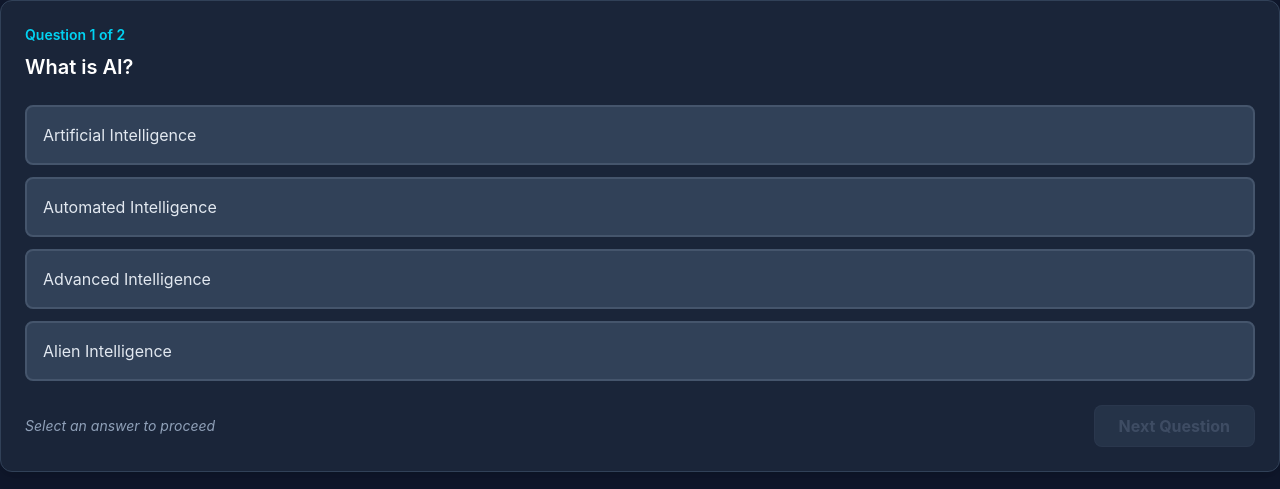
Test: QuizView Component › shows results after completing all questions
The width and height of the screenshot is (1280, 489).
// Answer first question correctly
Step 1. Click the button "Artificial Intelligence" → (120, 135), box top-left (25, 105), bottom-right (1255, 165)
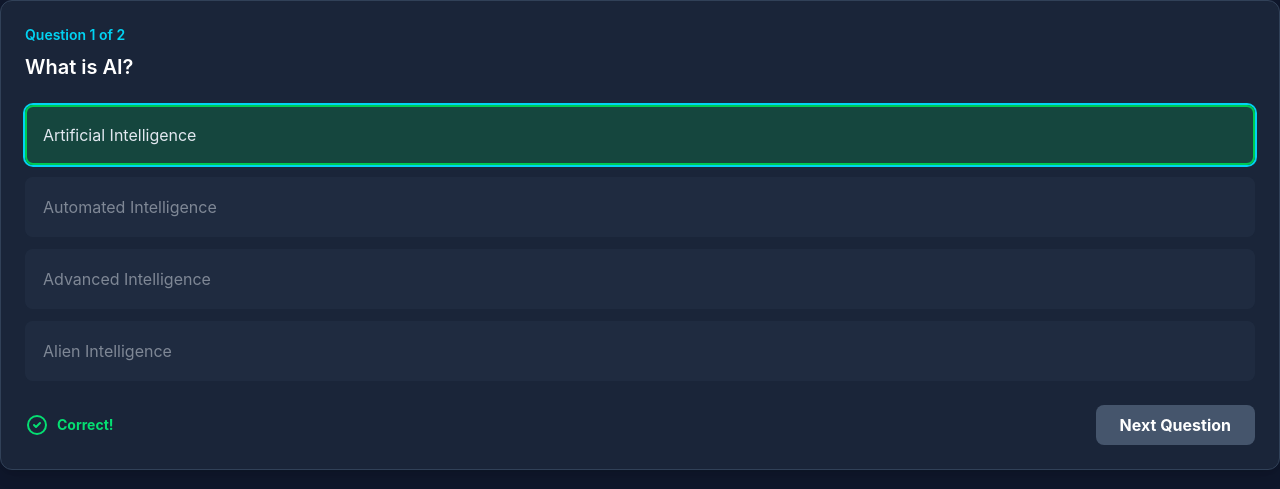
Step 2. Click the button "Next Question" → (1175, 425), box top-left (1096, 405), bottom-right (1255, 445)
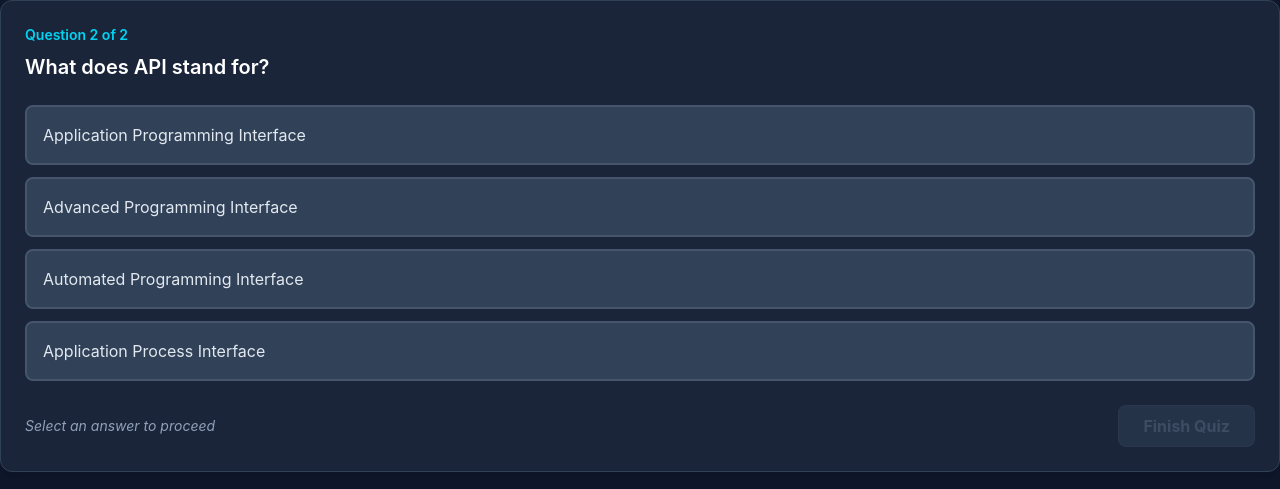
// Answer second question correctly
Step 3. Click the button "Application Programming Interface" → (174, 135), box top-left (25, 105), bottom-right (1255, 165)
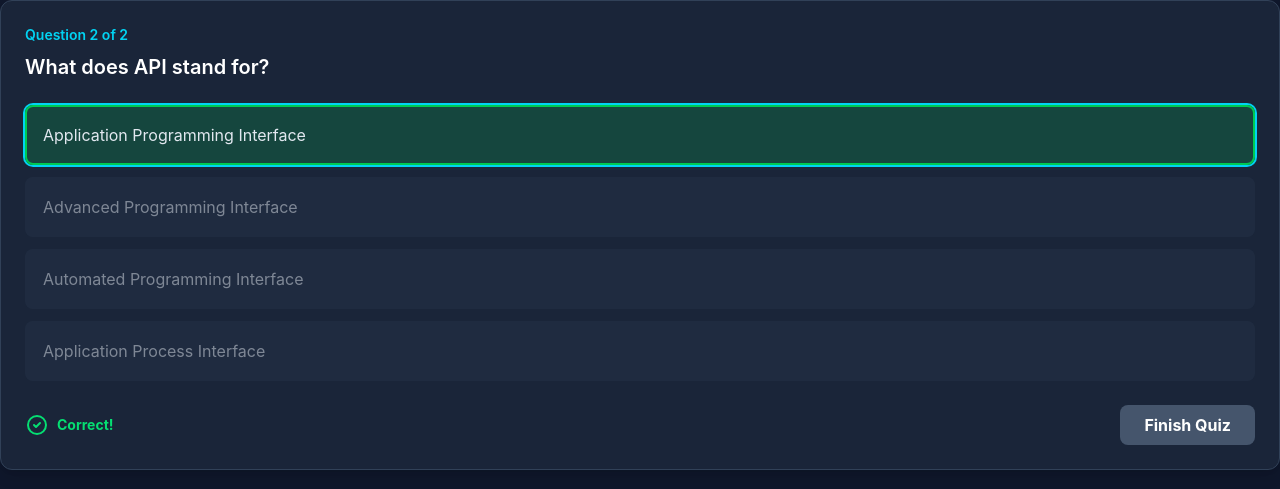
Step 4. Click the button "Finish Quiz" → (1188, 425), box top-left (1120, 405), bottom-right (1255, 445)
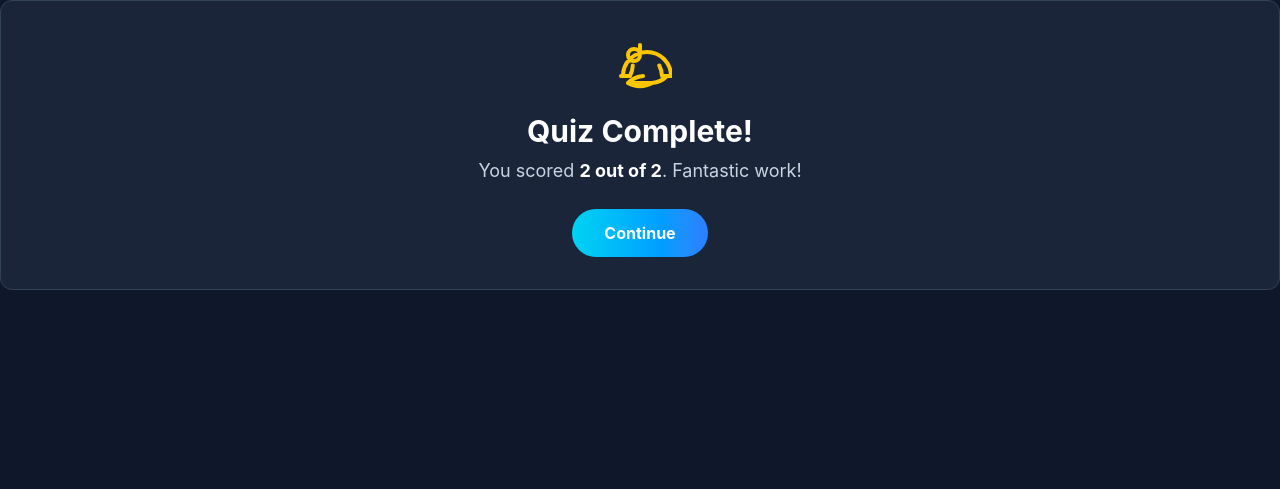
Check: the heading "Quiz Complete!" is shown, box top-left (527, 113), bottom-right (753, 149)
Check: the text "2 out of 2" is shown, box top-left (579, 160), bottom-right (662, 181)
